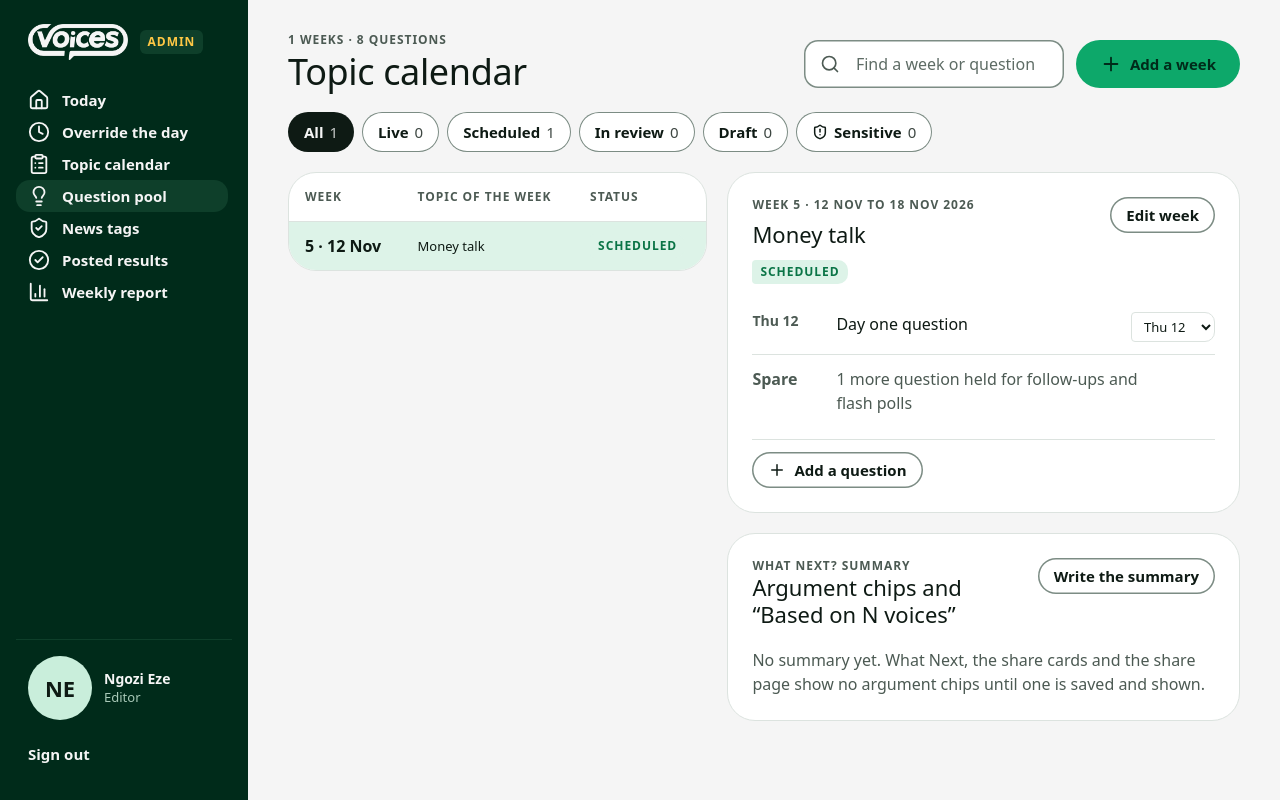
K5: Add a question in a week of the calendar › adds a spare to that week and the week shows one more
The image size is (1280, 800).
Check: the text "1 more question held for follow-ups and flash polls" is shown, box [836,368,1138,414]
Click the button "Add a question": (837, 470) [752,452,922,488]
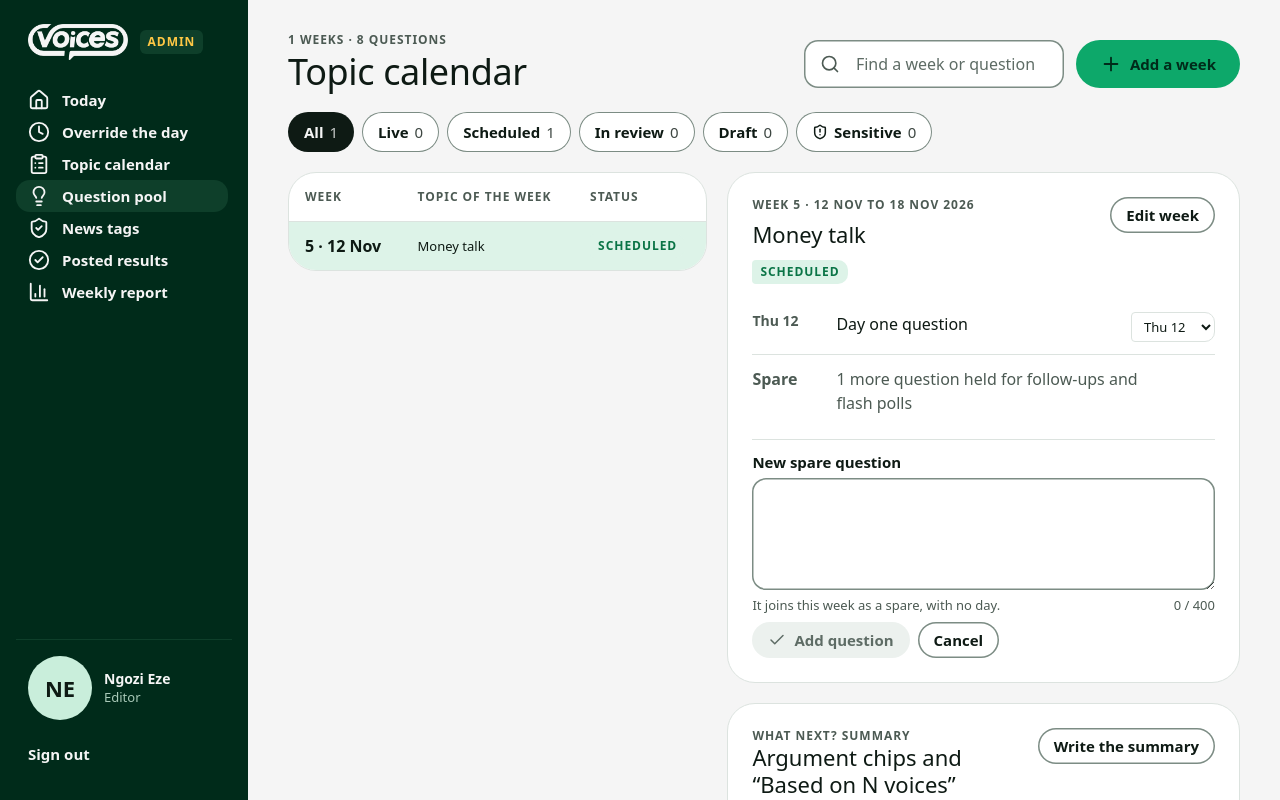
In the text box labelled "New spare question": (984, 534) [752,478,1215,590], type "A brand new spare question?"
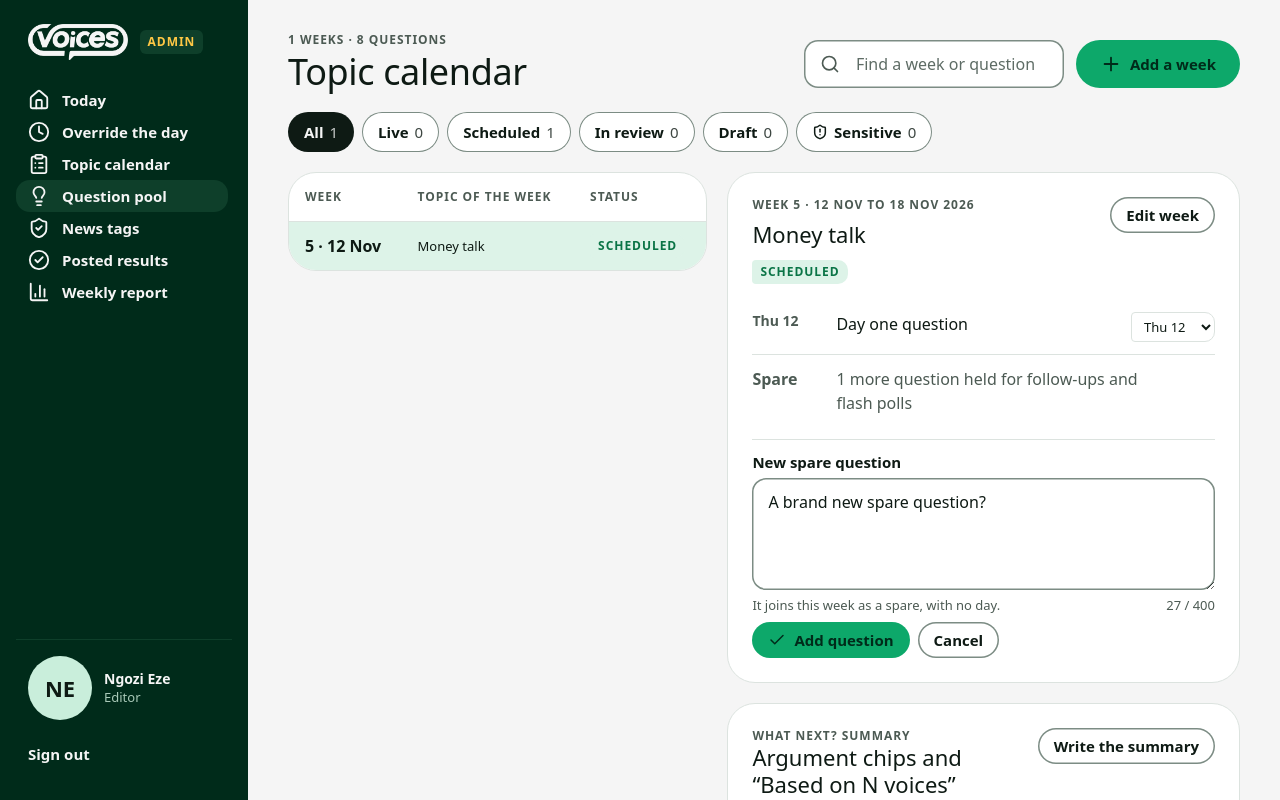
Click the button "Add question": (831, 640) [752,622,910,658]
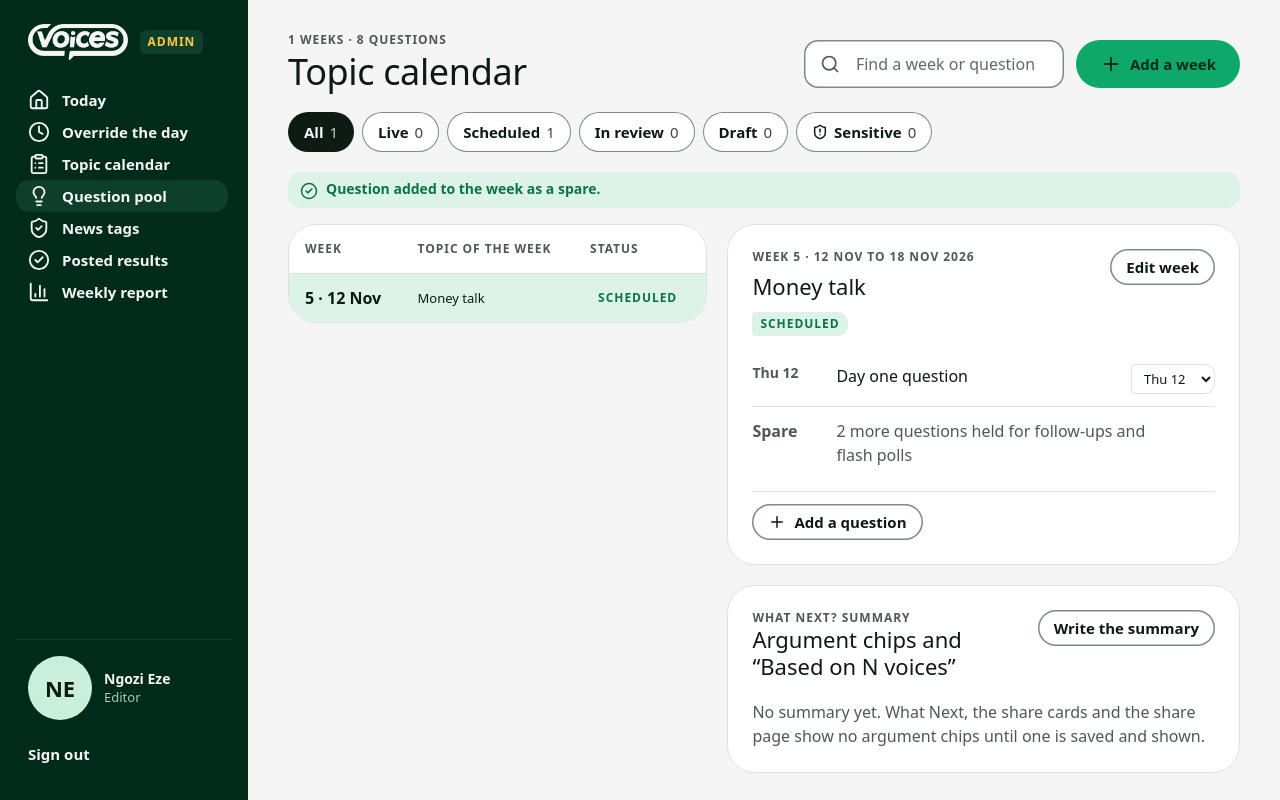
Check: the text "2 more questions held for follow-ups and flash polls" is shown, box [836,420,1145,466]
Check: the text "Question added to the week as a spare." is shown, box [326,180,601,198]
